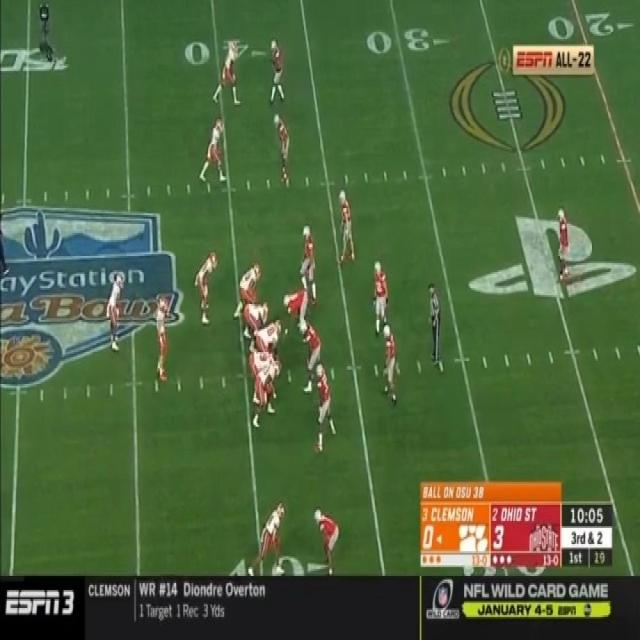center: (252, 316, 286, 358)
db: (313, 510, 337, 562), (272, 117, 290, 185), (557, 208, 573, 279), (338, 192, 355, 256), (270, 39, 283, 101)
lb: (384, 327, 399, 400), (373, 264, 386, 318)
qb: (155, 297, 173, 377)
skill: (253, 501, 284, 572), (215, 42, 240, 108), (196, 252, 217, 322), (202, 121, 223, 178), (106, 274, 124, 339)
